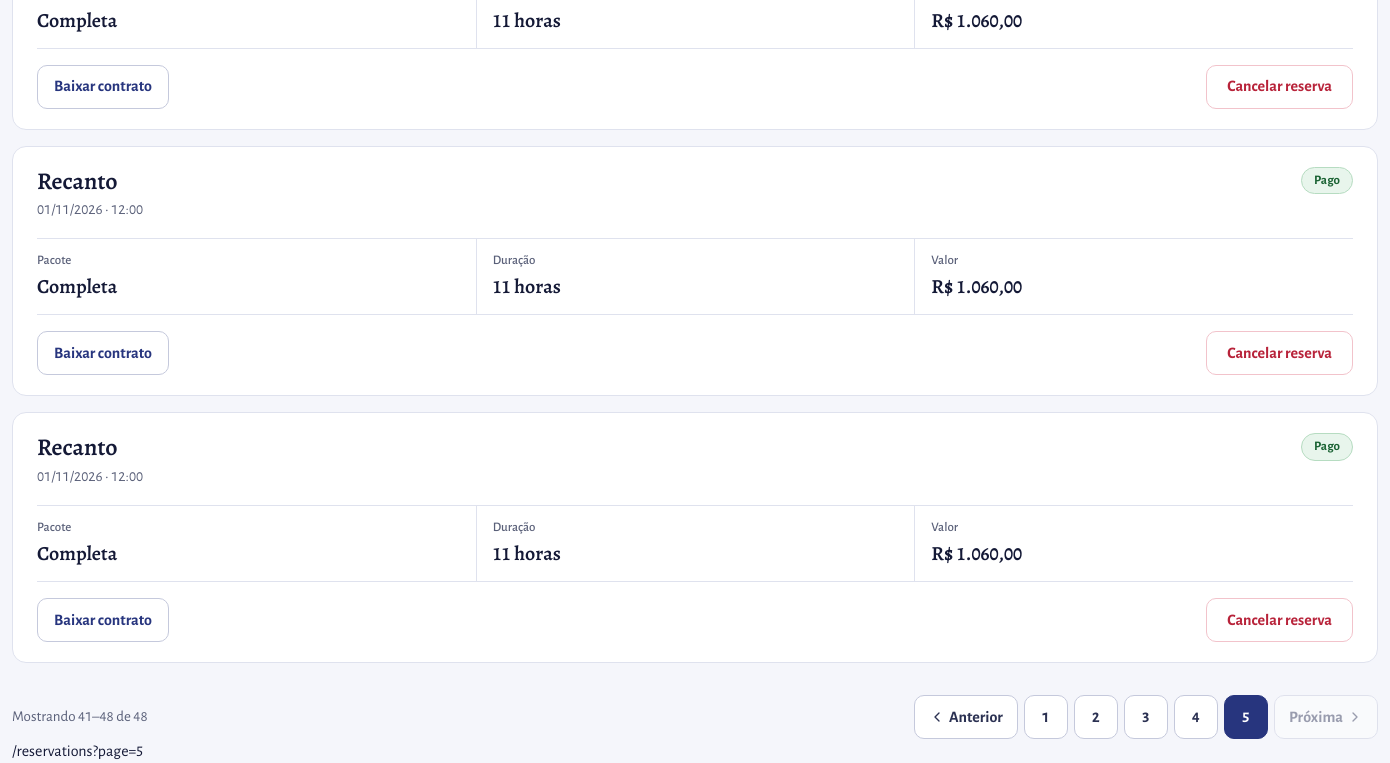
Test case: Páginas do cliente › Minhas reservas: paginates with the API total
This screenshot has width=1390, height=763.
(page scrolled)
Check: the text "Mostrando 41–48 de 48" is shown, box [12,706,148,728]
Click the button "Anterior": (966, 717) [914,695,1018,739]
(page scrolled)
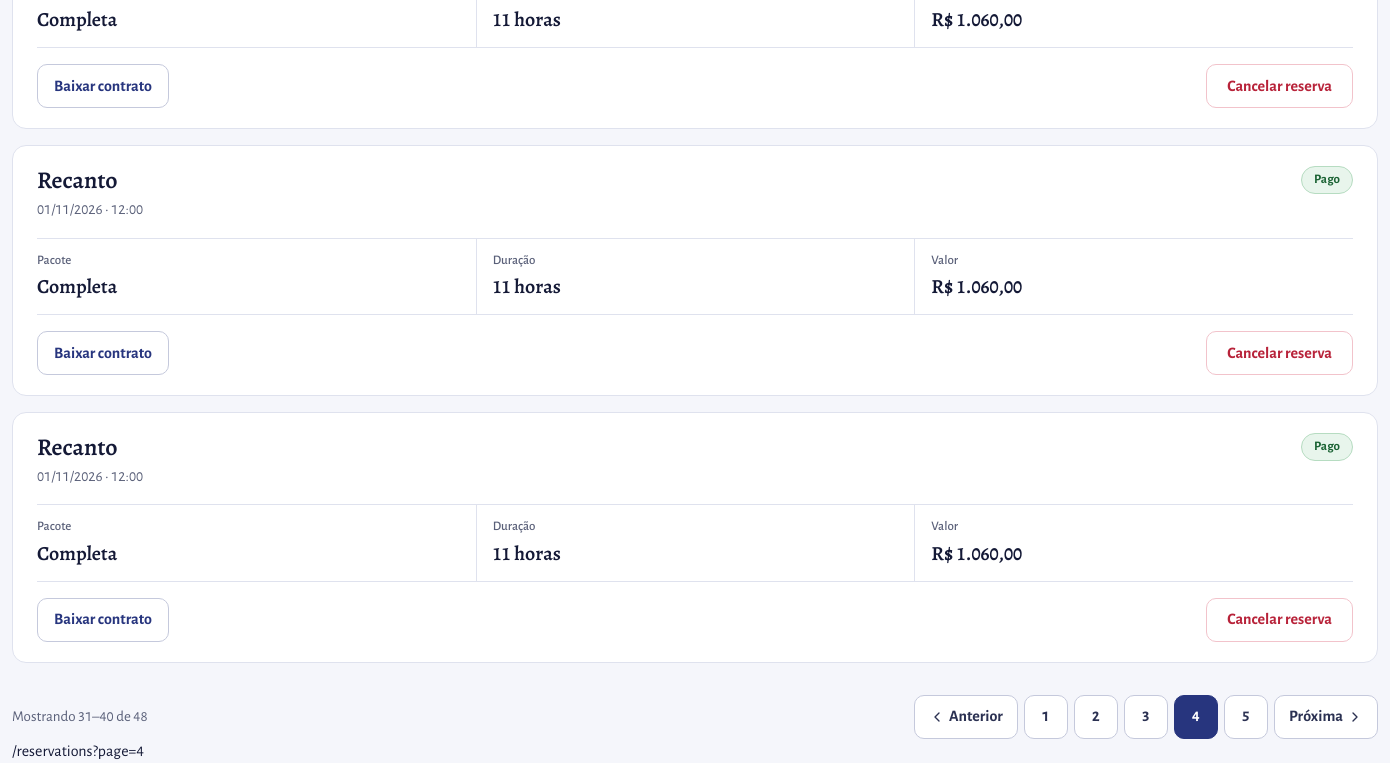
Check: the text with test id "location" reads "/reservations?page=4", box [12,743,144,759]
